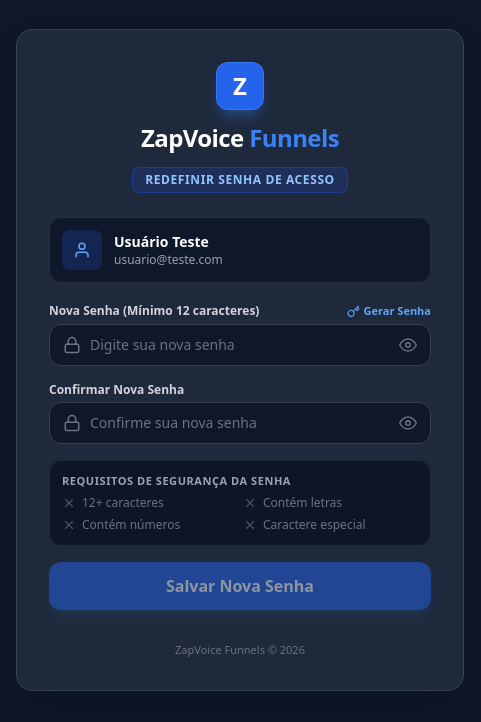
ResetPassword Page › gera senha aleatória segura ao clicar no botão Gerar Senha
Expected: the text "Gerar Senha" is shown, x1=364 y1=303 x2=431 y2=320
Click the button "Gerar Senha" at (389, 311), box x1=347 y1=303 x2=431 y2=320
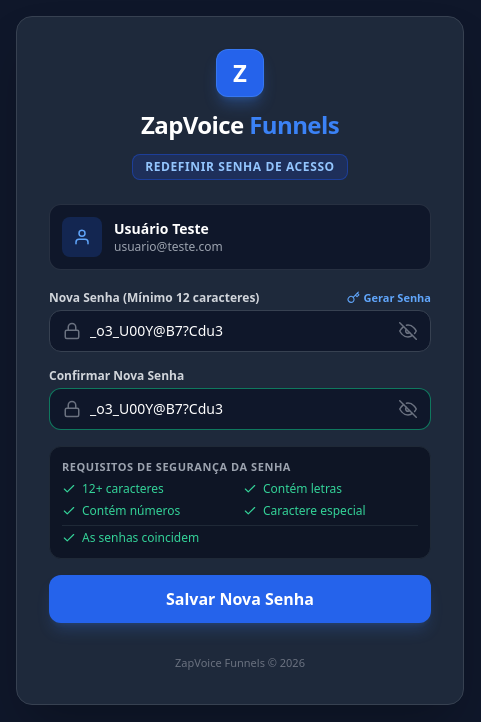
Expected: the text "As senhas coincidem" is shown, x1=82 y1=530 x2=199 y2=546
